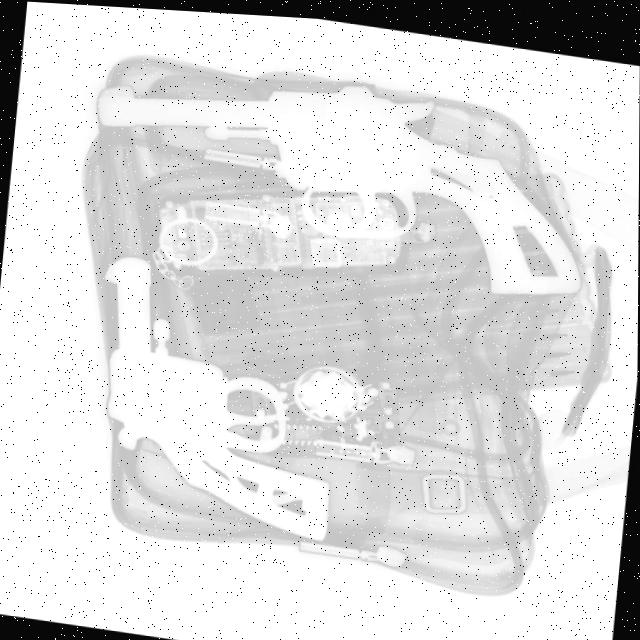pistol: (78, 40, 609, 305), (81, 246, 357, 540)
